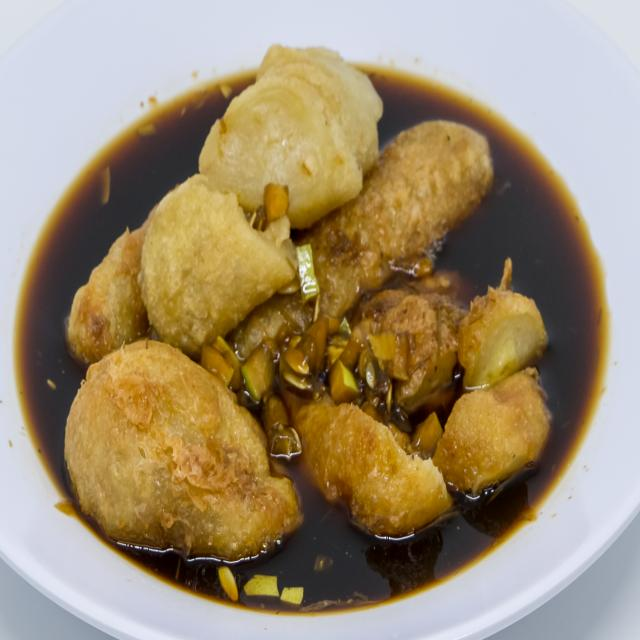Pempek-Palembang: (48, 29, 561, 569)
